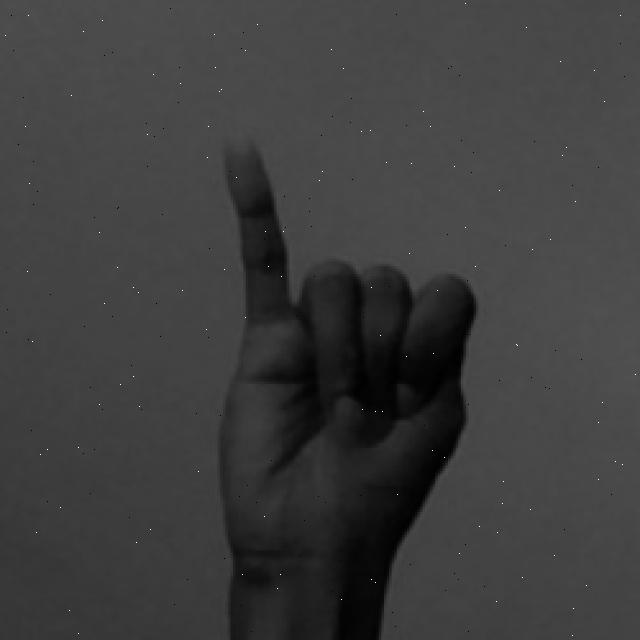I: (212, 123, 483, 640)
